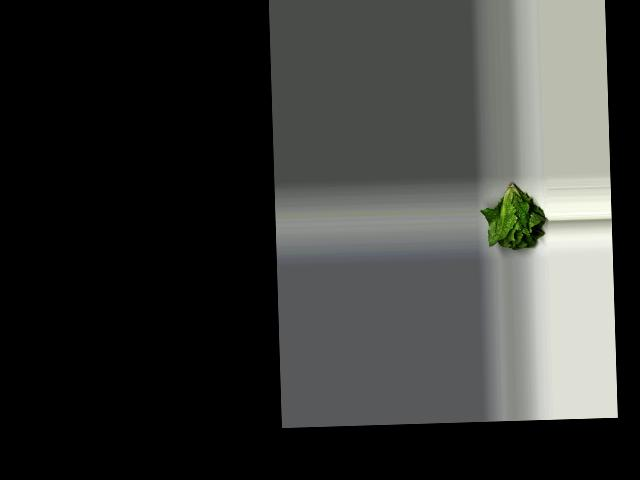lettuce: (480, 180, 546, 251)
